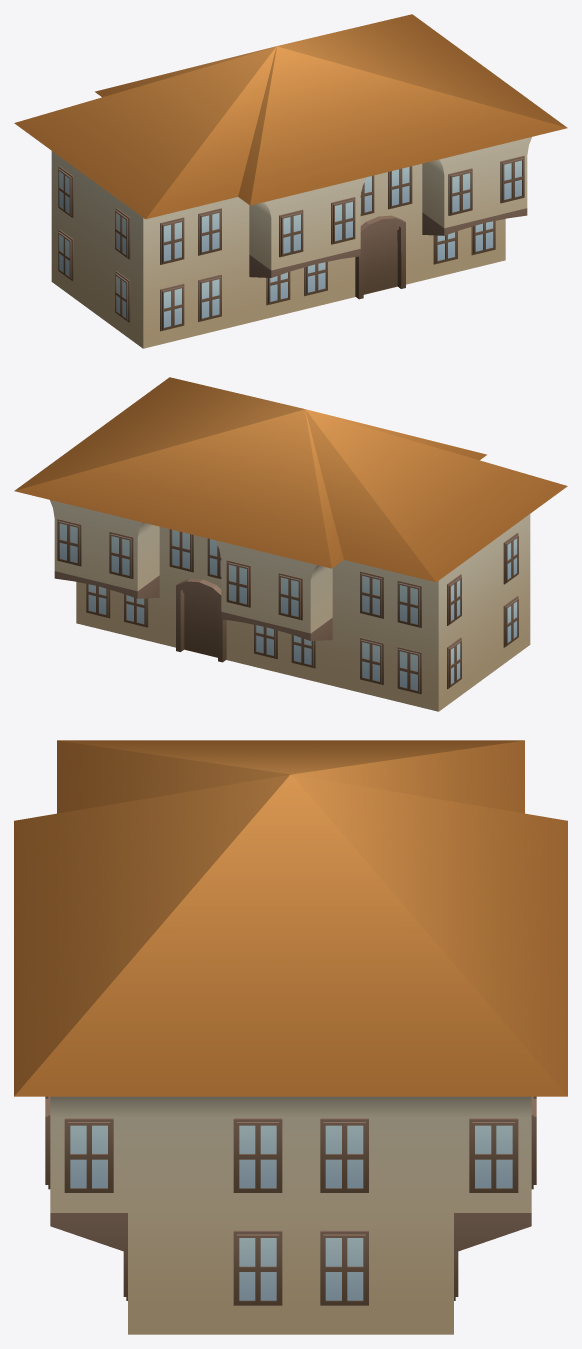
Rendered from Ataturks_House.fbx.
3 renders of one model, top to bottom at view 1: azimuth 30°, elevation 25°; view 2: azimuth 150°, elevation 25°; view 3: azimuth 270°, elevation 25°, orthographic. The views are drawn at different scales.
Parts seen in each view (by area): view 1: Ataturk's House; view 2: Ataturk's House; view 3: Ataturk's House.
Boxes of the visible parts, <box> form: Ataturk's House: <box>14,14,567,348</box>; Ataturk's House: <box>14,377,567,711</box>; Ataturk's House: <box>14,740,567,1334</box>.
Size of the model in its own units: 2285 by 1199 by 1501.
